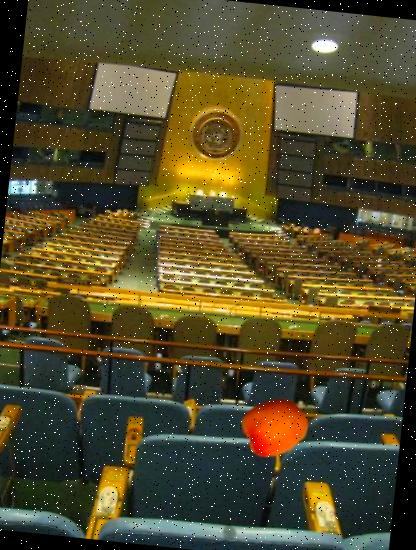Apricot: (238, 390, 312, 464)
